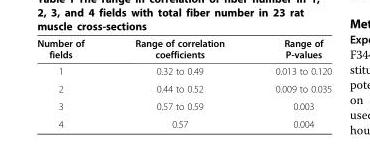table: (36, 37, 331, 129)
table column: (109, 37, 249, 129), (249, 37, 331, 129), (36, 37, 109, 129)
table column header: (36, 37, 331, 62)
table row: (36, 37, 331, 62), (36, 79, 331, 97), (36, 62, 331, 79), (36, 97, 331, 114), (36, 114, 331, 129)
